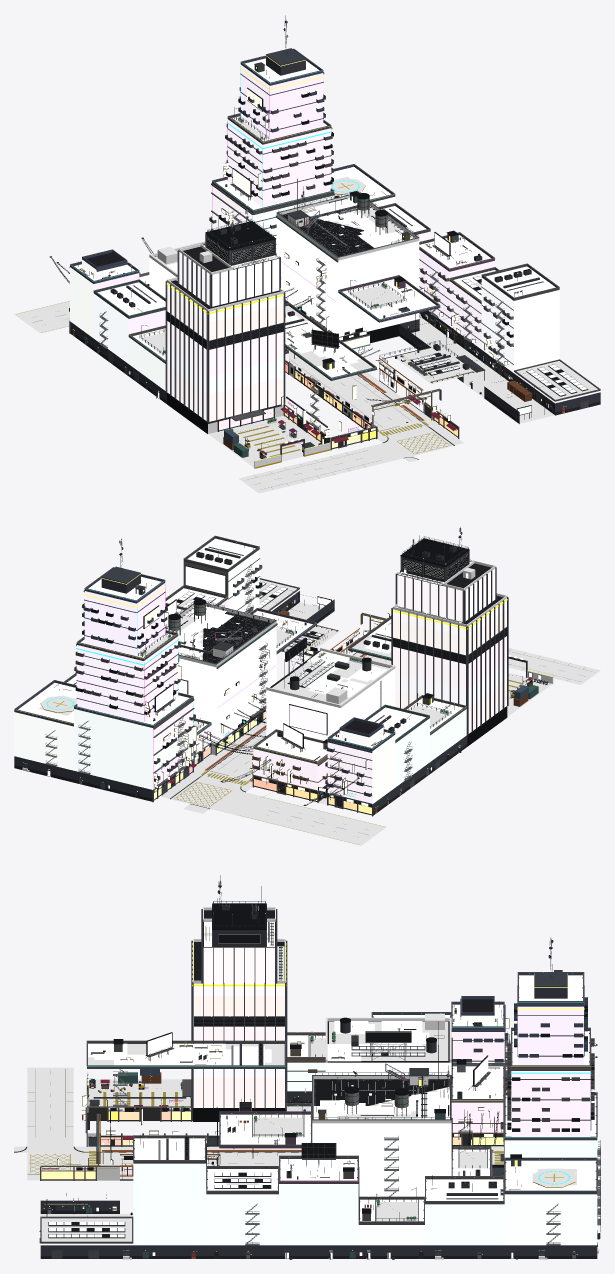
Rendered from world-high-afterlife.glb.
3 views of the same model, one above another, from view 1: azimuth 30°, elevation 25°; view 2: azimuth 150°, elevation 25°; view 3: azimuth 270°, elevation 25° (orthographic). The views are drawn at different scales.
Parts seen in each view (by area): view 1: afterlife_facade, afterlife_trim, afterlife_glow, afterlife_concrete, afterlife_asphalt, rooftop_facade_t2, afterlife_trim_detail, afterlife_metal_detail, afterlife_castconcrete, afterlife_dark_detail, afterlife_sidewalk, rooftop_concrete (+13 smaller); view 2: afterlife_facade, afterlife_trim, afterlife_glow, afterlife_asphalt, afterlife_trim_detail, rooftop_facade_t2, afterlife_metal_detail, afterlife_concrete, afterlife_castconcrete, rooftop_facade_t1, afterlife_billboard, afterlife_dark_detail (+22 smaller); view 3: afterlife_facade, afterlife_glow, afterlife_trim, afterlife_castconcrete, afterlife_trim_detail, afterlife_concrete, rooftop_facade_t2, afterlife_asphalt, afterlife_metal_detail, afterlife_sidewalk, afterlife_steel, afterlife_steel_detail (+23 smaller).
Boxes of the visible parts, x1,y1,x2,y2 form: afterlife_facade: (70,64,600,430); afterlife_trim: (69,50,600,458); afterlife_glow: (74,14,587,443); afterlife_concrete: (155,119,597,468); afterlife_asphalt: (14,300,453,493); rooftop_facade_t2: (276,218,419,336); afterlife_trim_detail: (69,22,600,457); afterlife_metal_detail: (49,15,588,457); afterlife_castconcrete: (70,48,600,423); afterlife_dark_detail: (51,131,539,449); afterlife_sidewalk: (140,119,463,462); rooftop_concrete: (167,195,419,311); afterlife_facade: (14,549,506,803); afterlife_trim: (14,536,547,816); afterlife_glow: (18,522,523,795); afterlife_asphalt: (171,648,600,845); afterlife_trim_detail: (14,528,549,809); rooftop_facade_t2: (178,626,276,743); afterlife_metal_detail: (20,528,547,813); afterlife_concrete: (22,574,553,804); afterlife_castconcrete: (14,566,467,815); rooftop_facade_t1: (266,668,395,740); afterlife_billboard: (108,566,541,796); afterlife_dark_detail: (79,546,546,804); afterlife_facade: (40,942,597,1245); afterlife_glow: (43,874,596,1258); afterlife_trim: (40,904,597,1258); afterlife_castconcrete: (40,972,597,1258); afterlife_trim_detail: (40,880,597,1255); afterlife_concrete: (40,933,599,1259); rooftop_facade_t2: (312,1123,451,1196); afterlife_asphalt: (17,1067,503,1174); afterlife_metal_detail: (39,875,600,1259); afterlife_sidewalk: (14,1034,503,1221); afterlife_steel: (90,934,600,1245); afterlife_steel_detail: (44,922,600,1244).
Bounding box in the file's own units: 138 × 92.67 × 177.
